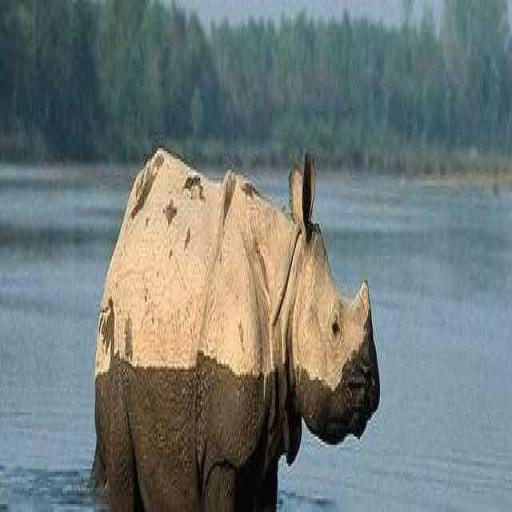Rhino: (90, 143, 380, 509)
